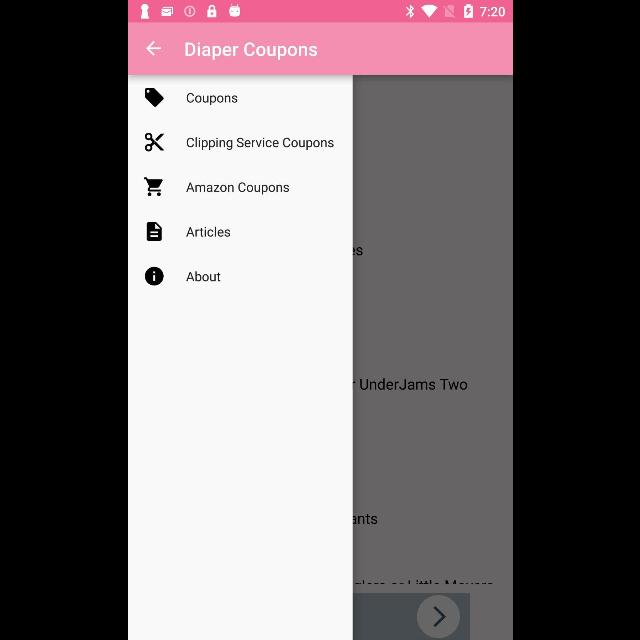icon: (144, 266, 164, 286), (144, 89, 164, 108), (144, 178, 162, 196), (146, 222, 162, 242), (145, 42, 161, 56)
image: (144, 132, 164, 152)
panel: (128, 76, 352, 640)
text: (185, 41, 318, 60), (185, 137, 332, 151), (185, 182, 288, 195), (186, 92, 238, 106), (184, 226, 230, 238), (186, 272, 220, 282)
toolbar: (128, 23, 512, 75)
uppertaskbar: (128, 1, 512, 23)
